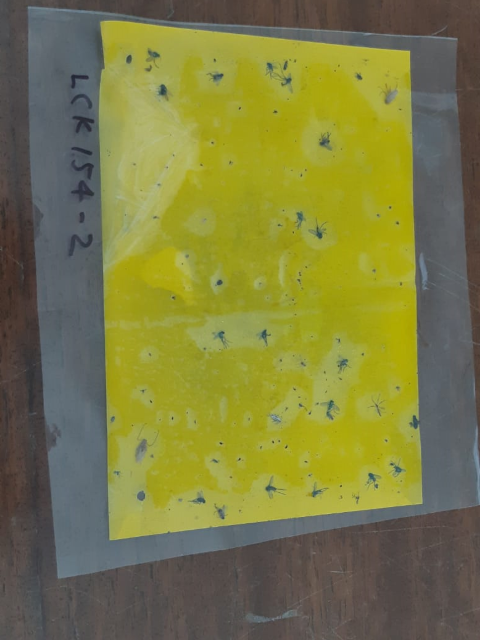DBM: (283, 60, 288, 71)
